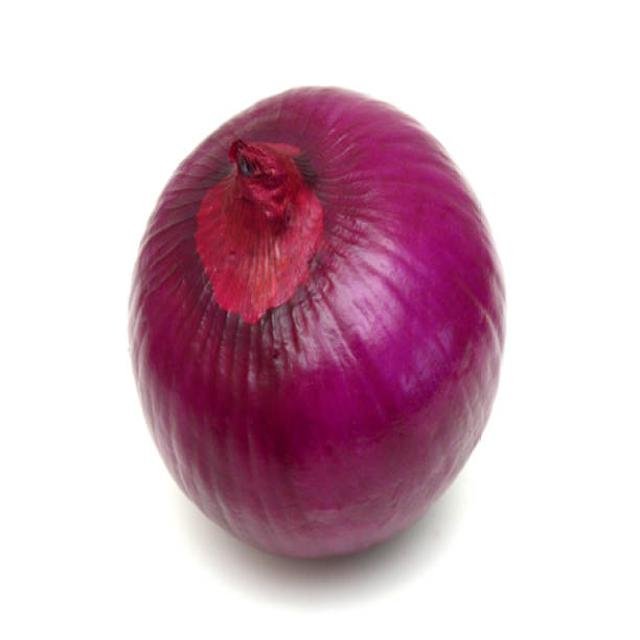onion: (130, 75, 510, 567)
